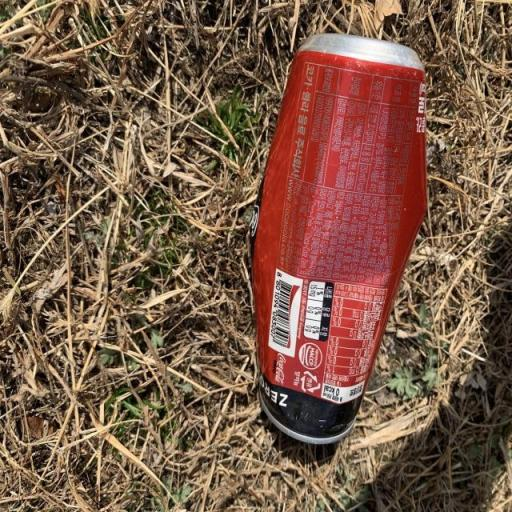metal: (233, 6, 437, 466)
